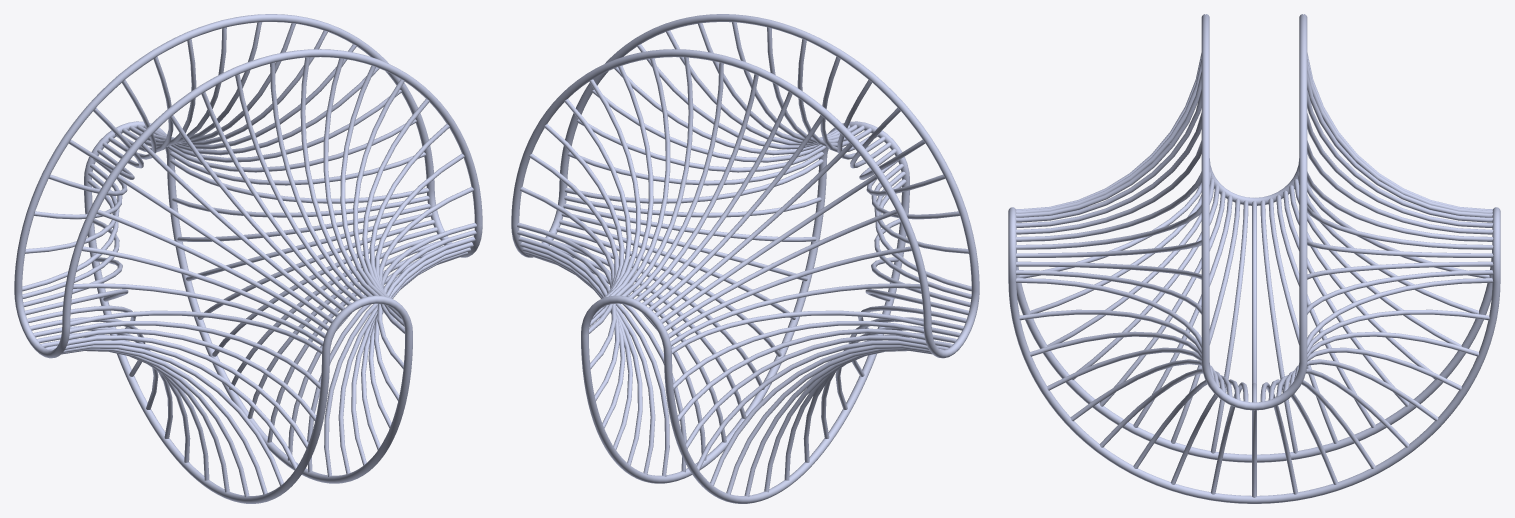
The picture shows the model from 3 angles, left to right: view 1: azimuth 30°, elevation 25°; view 2: azimuth 150°, elevation 25°; view 3: azimuth 270°, elevation 25°; orthographic projection.
Visible parts, largest first — view 1: SOLID (×4); view 2: SOLID (×4); view 3: SOLID (×4).
Part boxes in pixels (box(x1,y1,x2,y2)): SOLID (×4): box(14, 14, 482, 503); SOLID (×4): box(511, 14, 979, 503); SOLID (×4): box(1008, 14, 1500, 503).
Bounding box in the file's own units: 0.1512 × 0.1512 × 0.1512.
